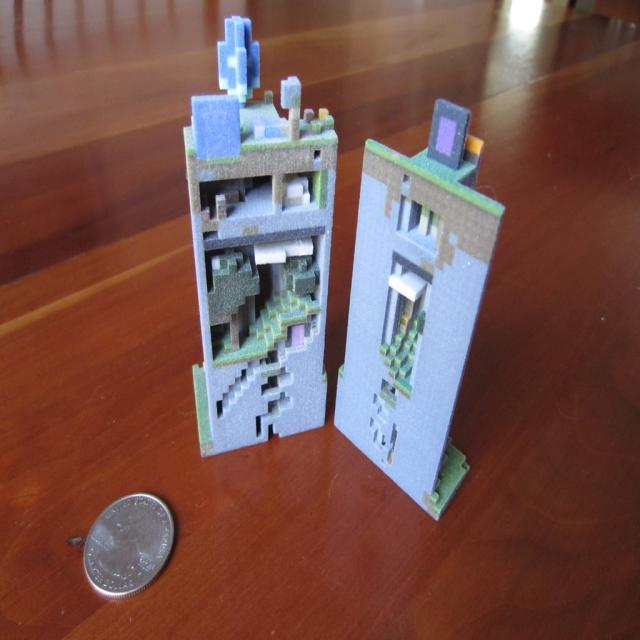Coin: (84, 490, 176, 598)
